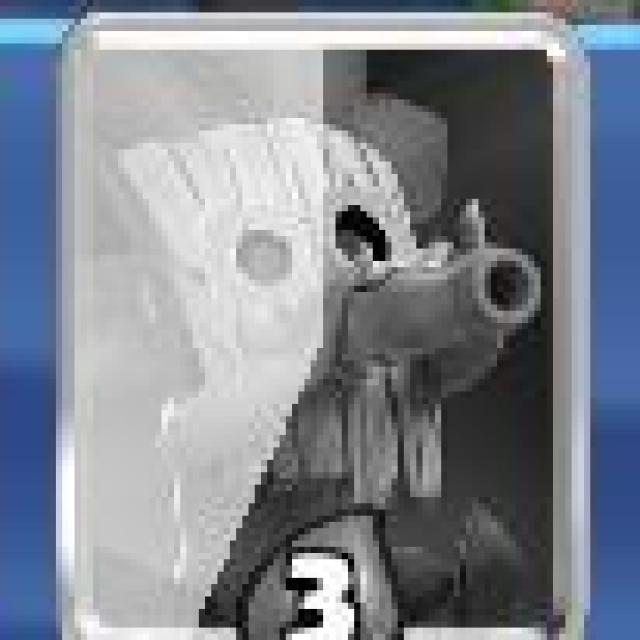Dart_Goblin: (54, 8, 596, 640)
